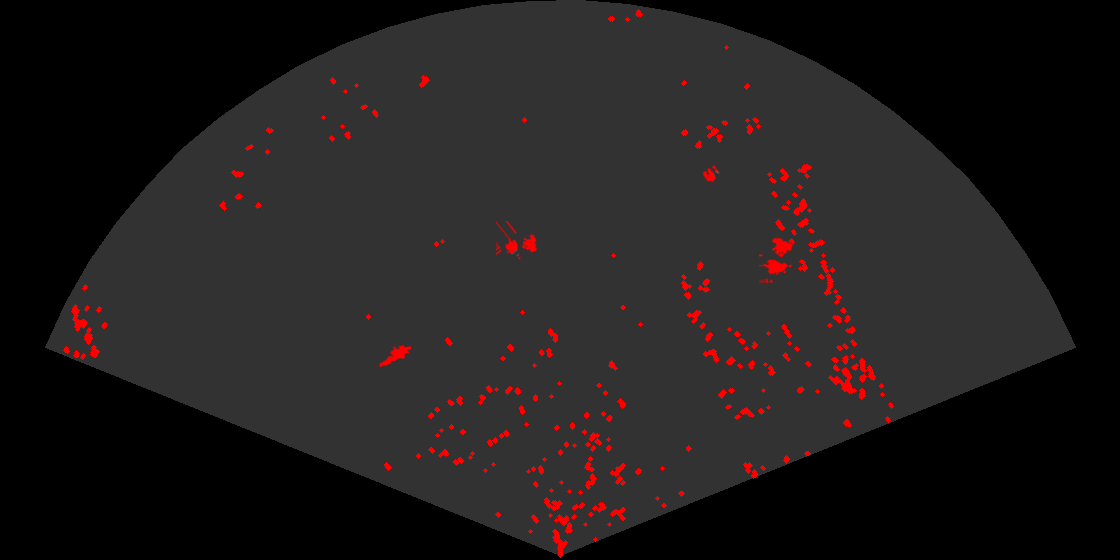ball: (701, 164, 721, 184)
cage: (496, 221, 539, 261), (759, 236, 795, 283)
frogman: (374, 343, 411, 368)
